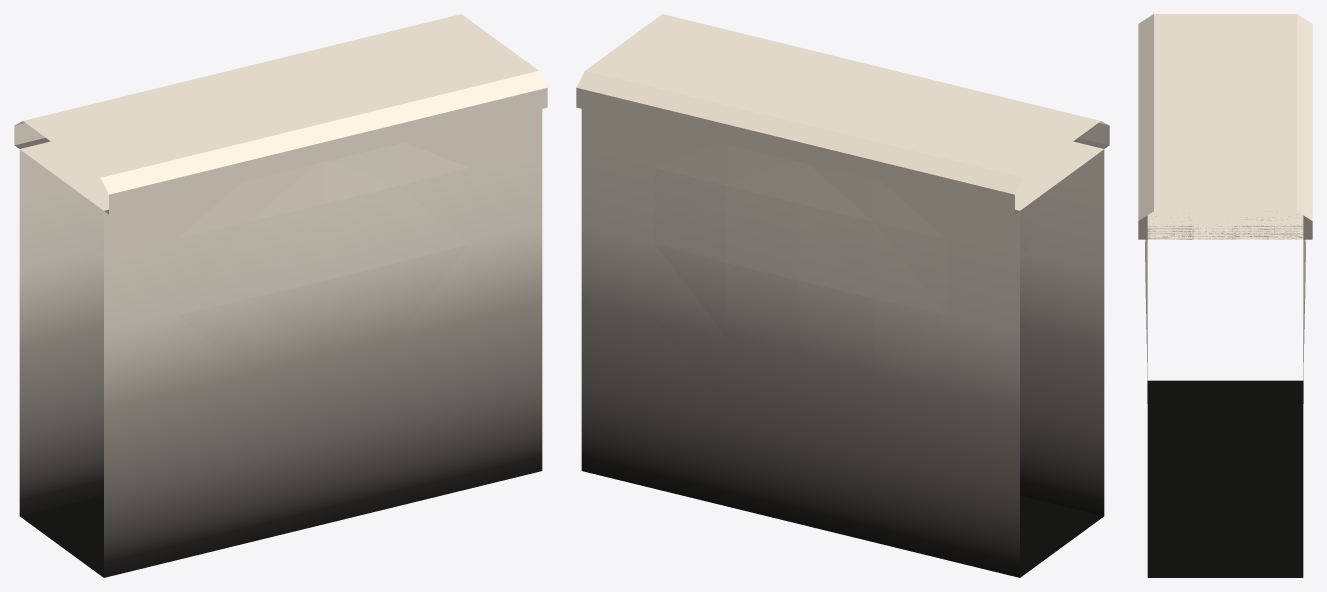
The model's file is SM_VKI_Wall_Ashlar_Plain_150A_Cut.fbx.
The picture shows the model from 3 angles, left to right: view 1: azimuth 30°, elevation 25°; view 2: azimuth 150°, elevation 25°; view 3: azimuth 270°, elevation 25°; orthographic projection. The views are drawn at different scales.
Parts seen in each view (by area): view 1: SM_VKI_Wall_Ashlar_Plain_150A_Cut.001; view 2: SM_VKI_Wall_Ashlar_Plain_150A_Cut.001; view 3: SM_VKI_Wall_Ashlar_Plain_150A_Cut.001.
Boxes of the visible parts, <box> form: SM_VKI_Wall_Ashlar_Plain_150A_Cut.001: <box>14,14,547,577</box>; SM_VKI_Wall_Ashlar_Plain_150A_Cut.001: <box>576,14,1109,577</box>; SM_VKI_Wall_Ashlar_Plain_150A_Cut.001: <box>1138,14,1312,577</box>.
Bounding box in the file's own units: 1.5 × 1.3 × 0.56.
